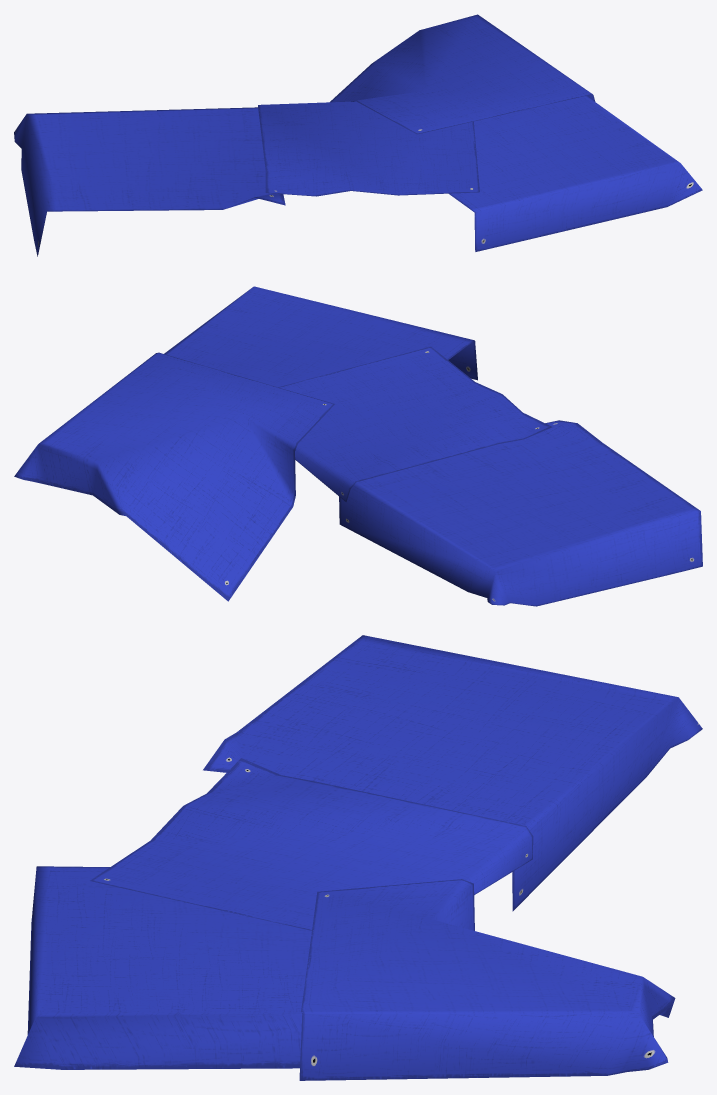
The model's file is SM_Tarp_01.fbx.
The picture shows the model from 3 angles, top to bottom: view 1: azimuth 30°, elevation 25°; view 2: azimuth 150°, elevation 25°; view 3: azimuth 270°, elevation 25°; orthographic projection. The views are drawn at different scales.
Parts seen in each view (by area): view 1: SM_Tarp_01; view 2: SM_Tarp_01; view 3: SM_Tarp_01.
Part boxes in pixels (<box>): SM_Tarp_01: <box>14,14,702,256</box>; SM_Tarp_01: <box>14,286,702,606</box>; SM_Tarp_01: <box>14,635,702,1080</box>.
Bounding box in the file's own units: 1491 × 262 × 1089.
